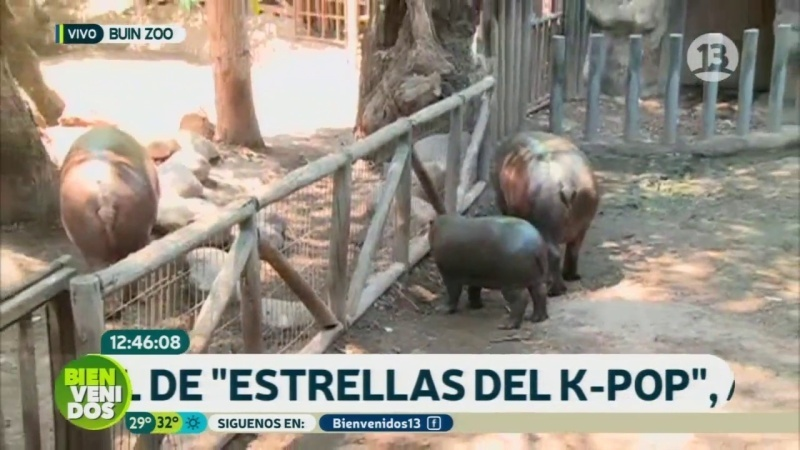hipopotamo: (488, 126, 607, 309), (413, 203, 561, 342), (47, 111, 167, 257)
